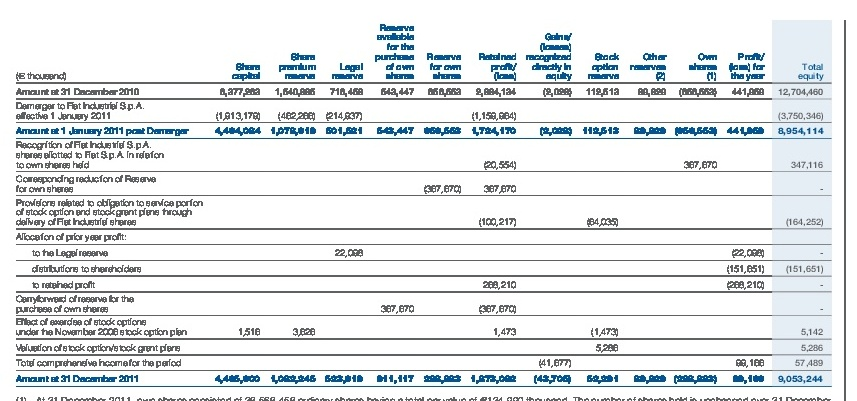table: (0, 0, 857, 401)
